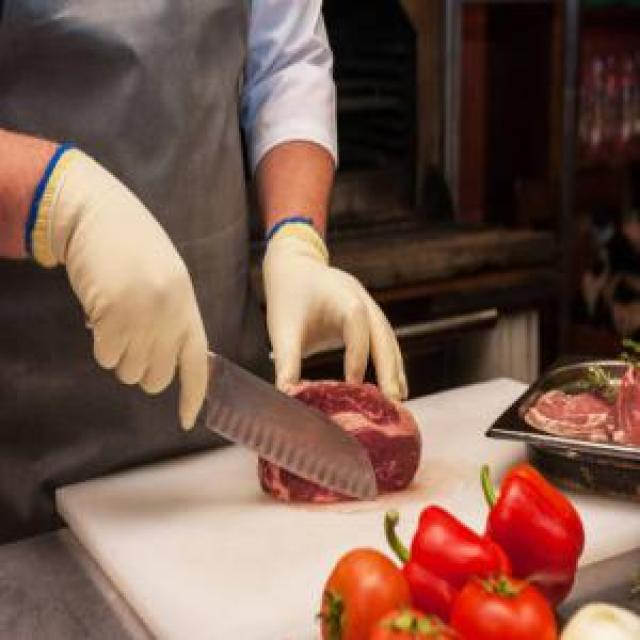knife: (79, 308, 382, 502)
